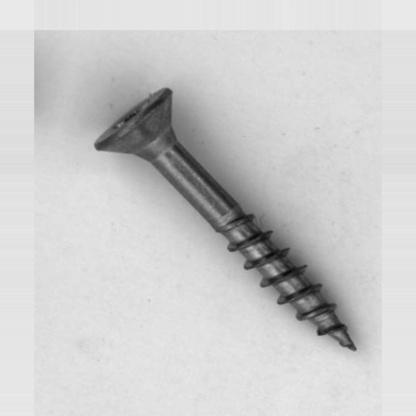metal: (93, 86, 357, 351)
